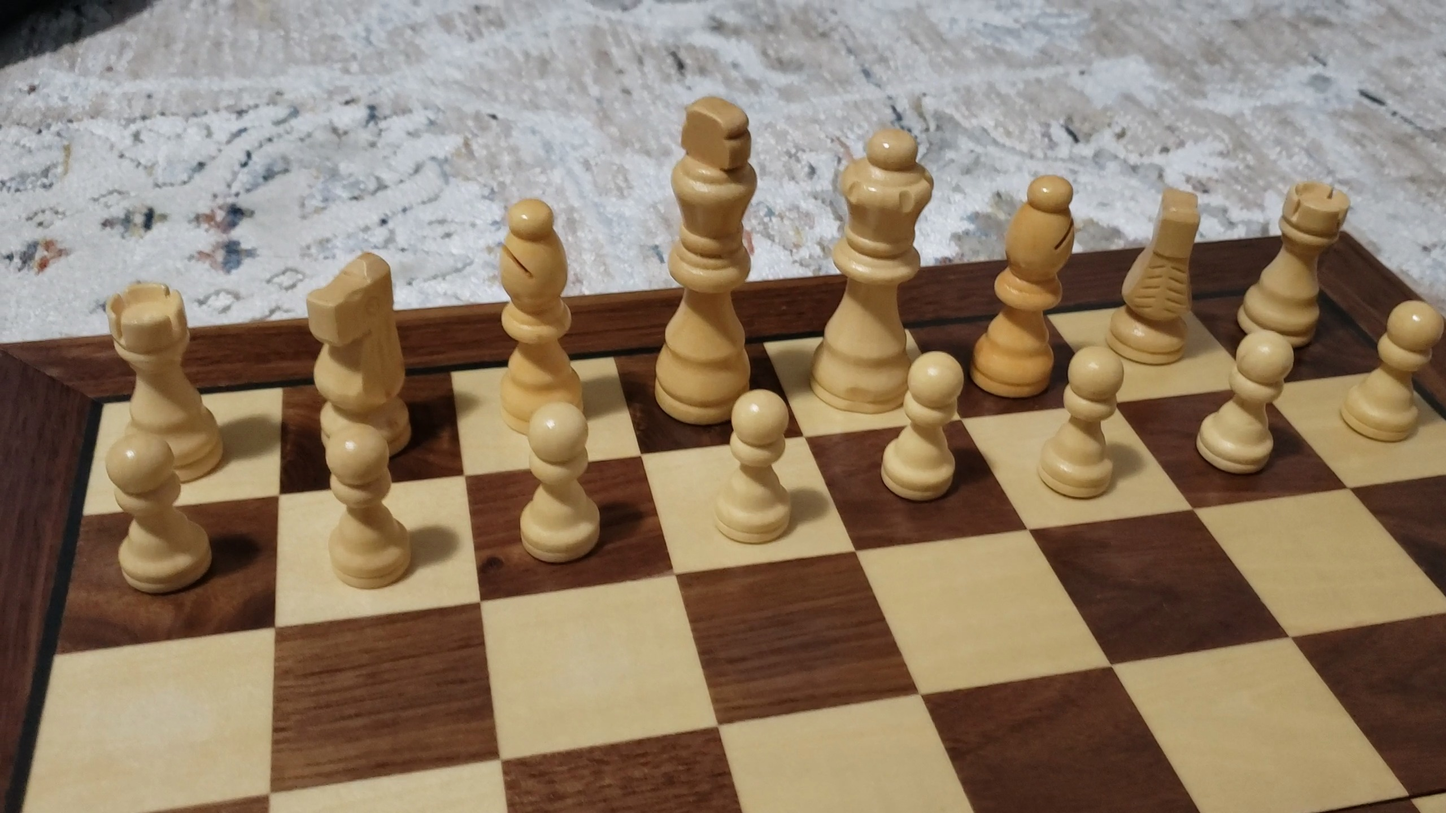white-bishop: (971, 170, 1075, 397), (497, 194, 583, 434)
white-king: (656, 96, 759, 422)
white-knight: (306, 249, 408, 453), (1106, 181, 1201, 364)
white-pawn: (100, 428, 221, 604), (315, 418, 422, 596), (511, 399, 605, 565), (1034, 341, 1122, 505), (1342, 299, 1444, 440), (1196, 327, 1293, 473), (878, 351, 967, 508), (711, 388, 797, 549)
white-queen: (806, 123, 937, 420)
white-rook: (107, 277, 223, 478), (1229, 177, 1353, 345)
